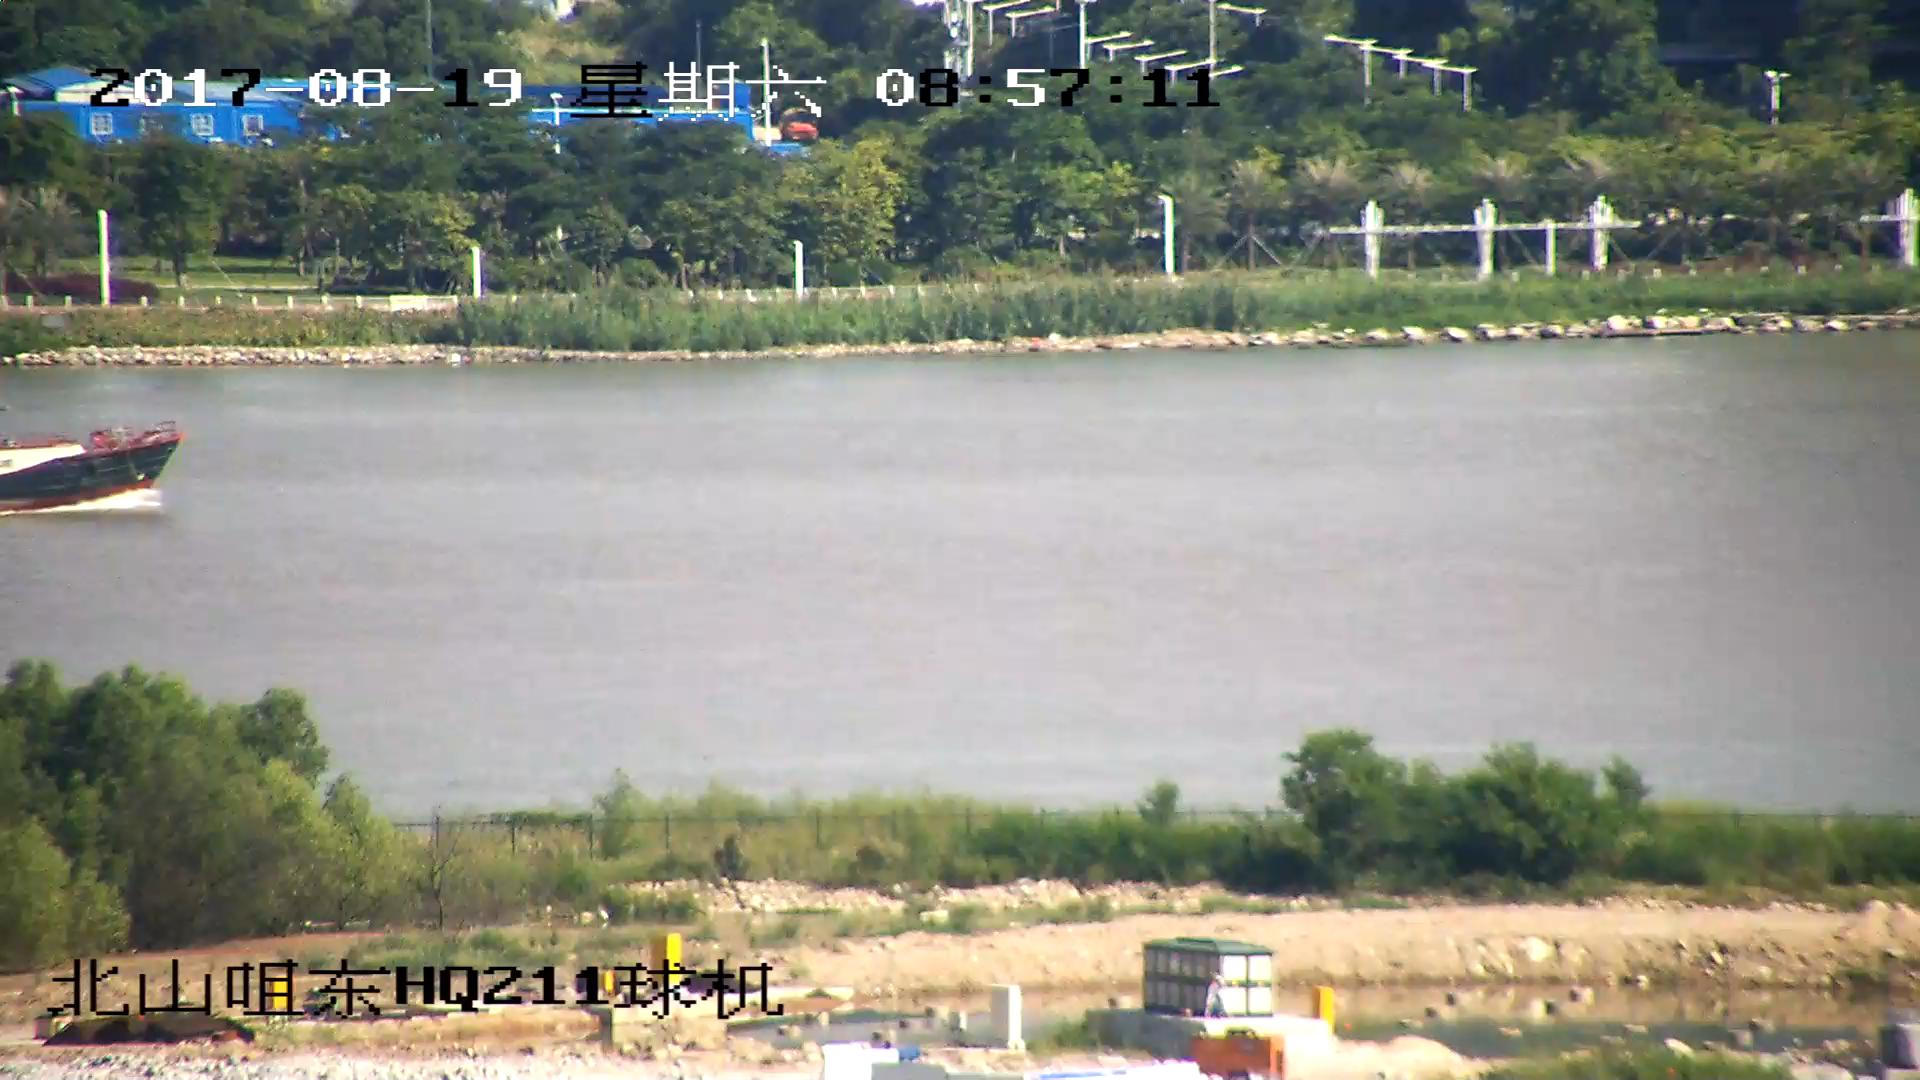fishing boat: (1, 412, 173, 510)
